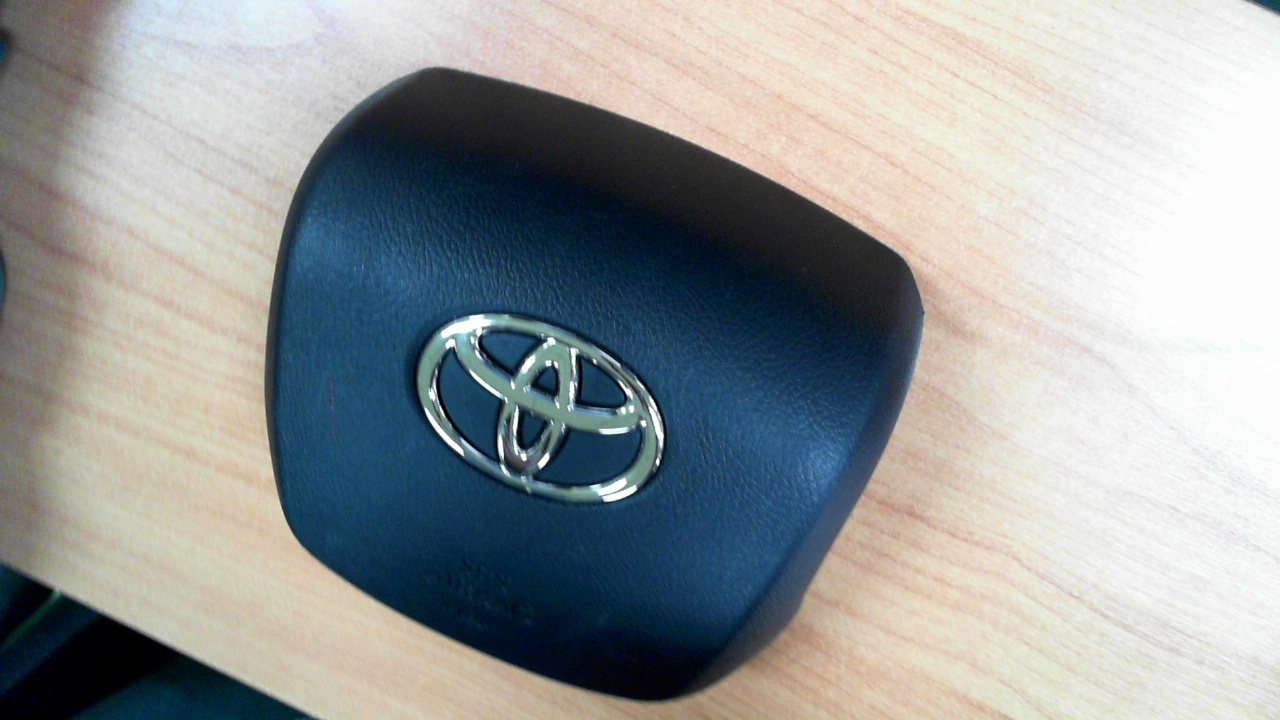Airbag: (263, 66, 926, 706)
Toyota: (417, 313, 665, 502)
